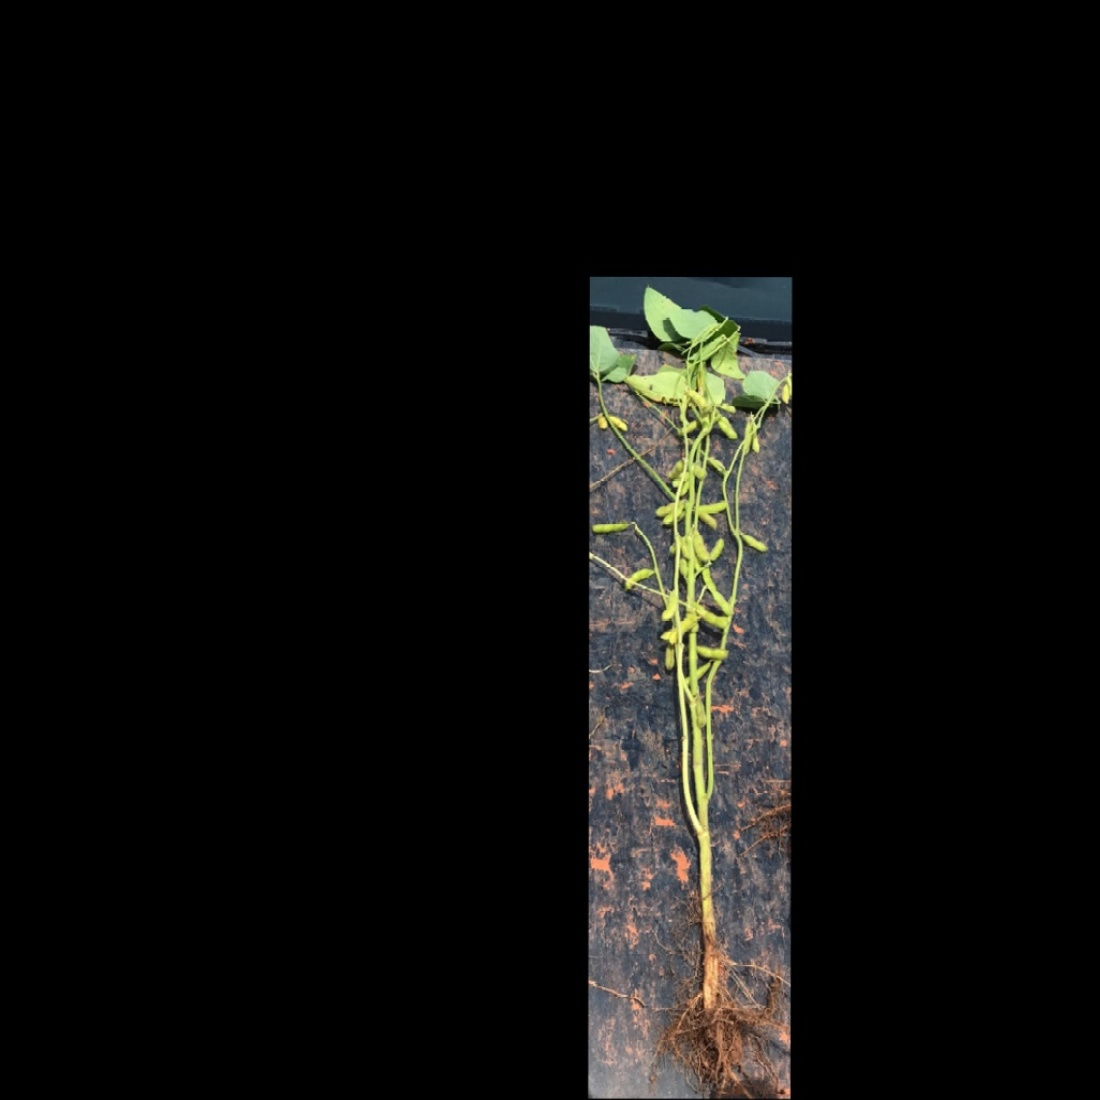pod: (621, 566, 656, 589), (740, 529, 770, 555), (699, 560, 718, 595), (590, 519, 633, 534), (712, 417, 739, 439), (692, 645, 731, 660), (693, 499, 728, 515), (707, 537, 725, 564), (609, 413, 631, 432)
soy: (591, 279, 790, 1073)
